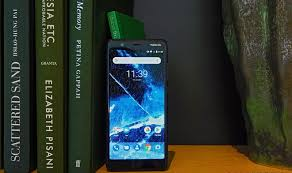nokia: (106, 36, 172, 168)
